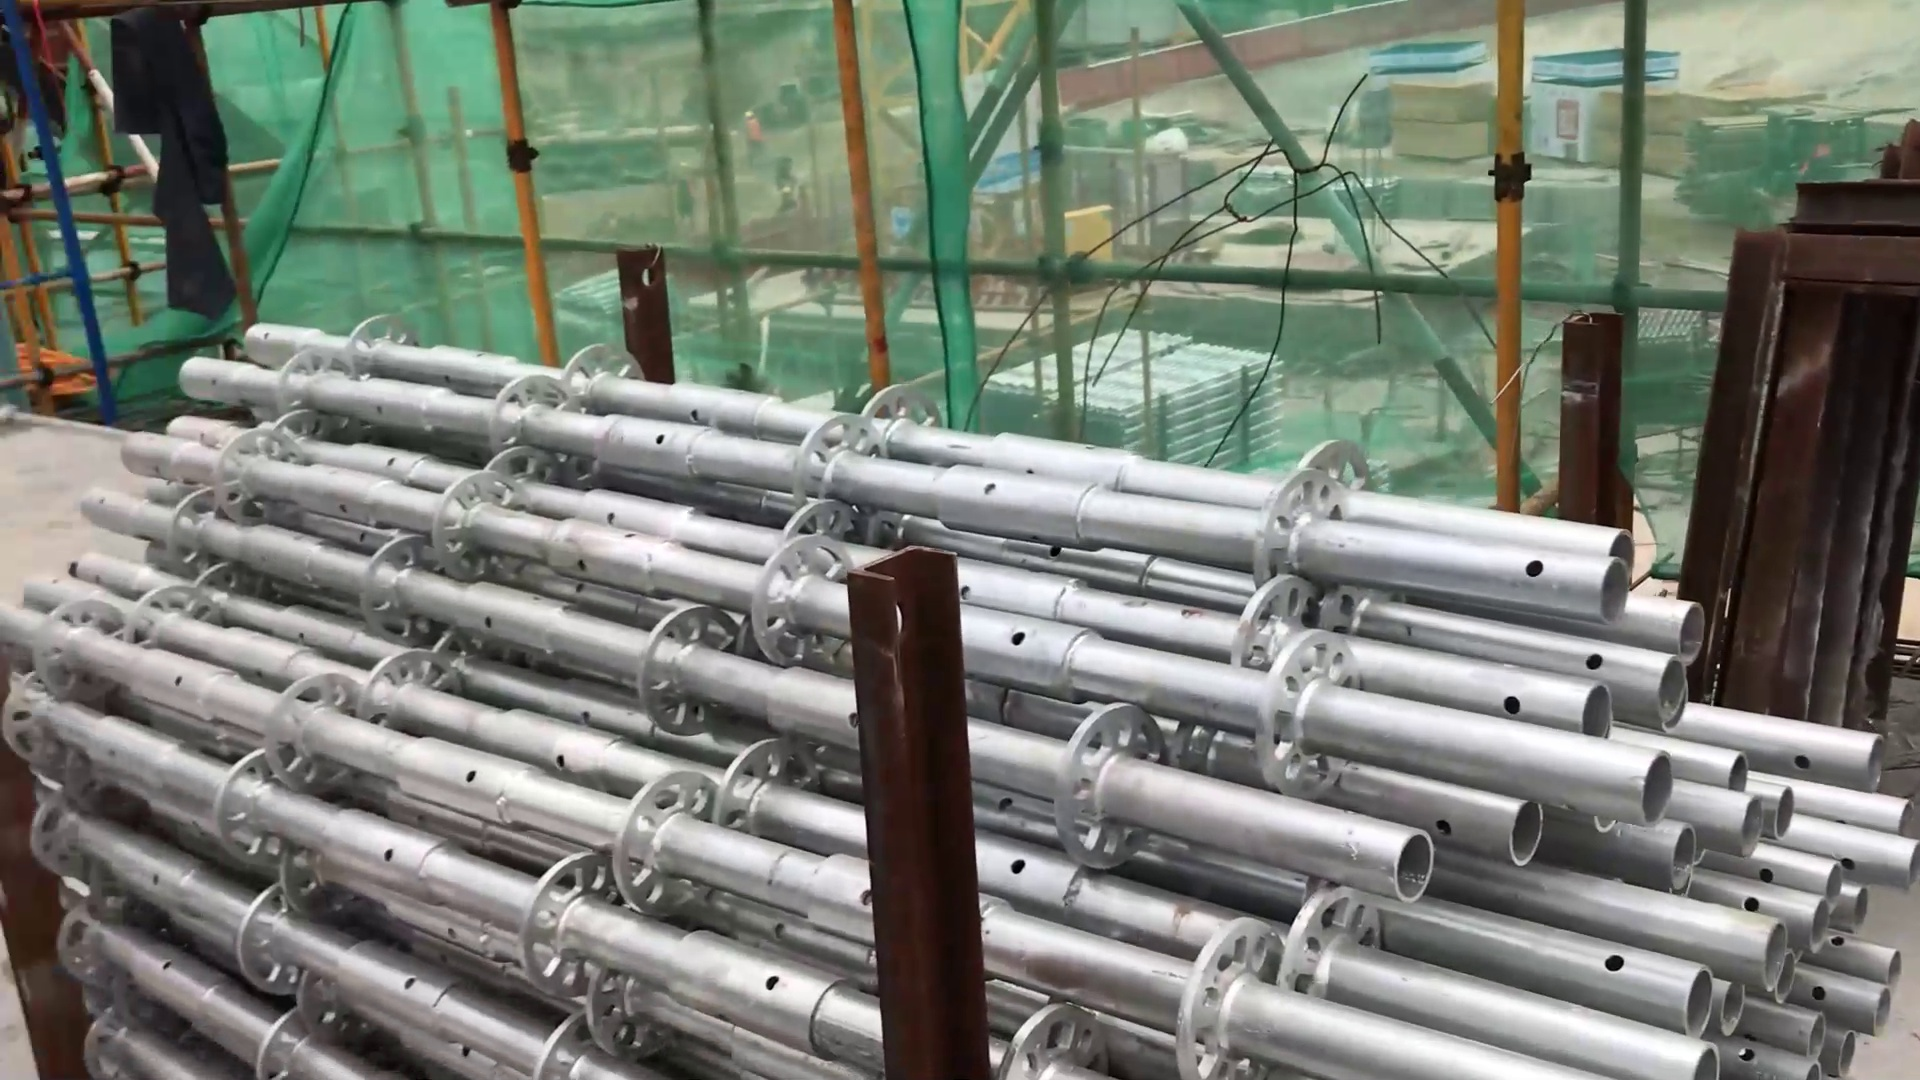ebox: (1059, 204, 1125, 281)
scaffold: (17, 318, 1915, 1080), (986, 334, 1305, 448)
